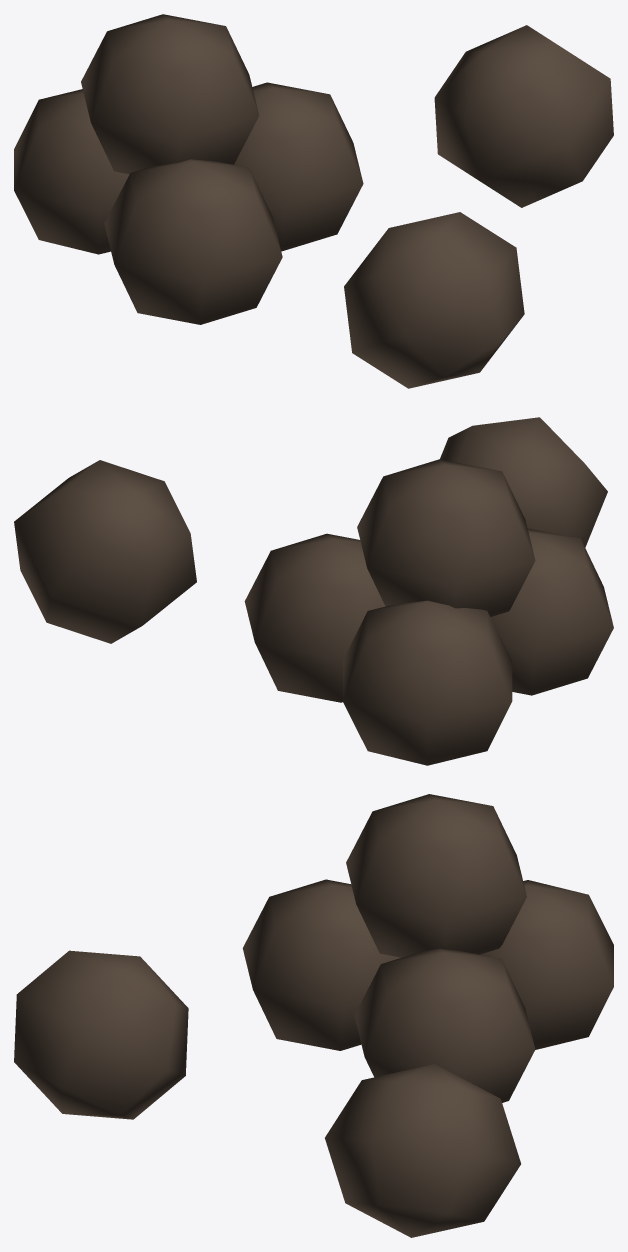
The model's file is mdl_coconutPile01.fbx.
The picture shows the model from 3 angles, top to bottom: view 1: azimuth 30°, elevation 25°; view 2: azimuth 150°, elevation 25°; view 3: azimuth 270°, elevation 25°; orthographic projection.
Visible parts, largest first — view 1: mdl_coconutPile03; view 2: mdl_coconutPile03; view 3: mdl_coconutPile03.
Part boxes in pixels (left/top/right/bottom): mdl_coconutPile03: left=14, top=14, right=613, bottom=388; mdl_coconutPile03: left=14, top=417, right=613, bottom=765; mdl_coconutPile03: left=14, top=794, right=613, bottom=1237.
Size of the model in its own units: 66.83 by 31.34 by 64.35.
Materials: 1 (1 with a texture image).
